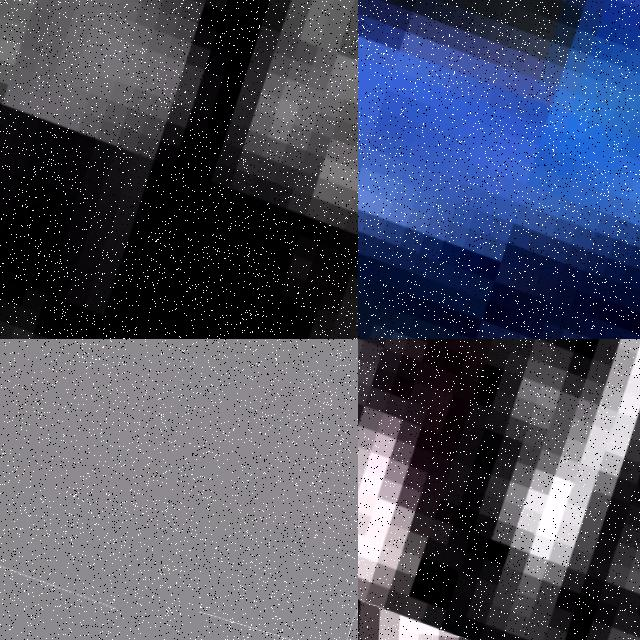drone: (0, 0, 358, 339), (0, 339, 358, 619), (358, 0, 640, 339), (358, 339, 640, 640)
